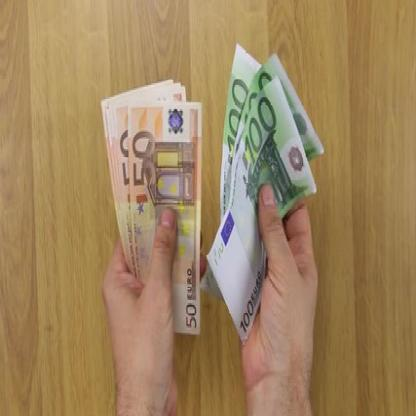billete: (200, 38, 324, 349), (99, 75, 201, 338)
